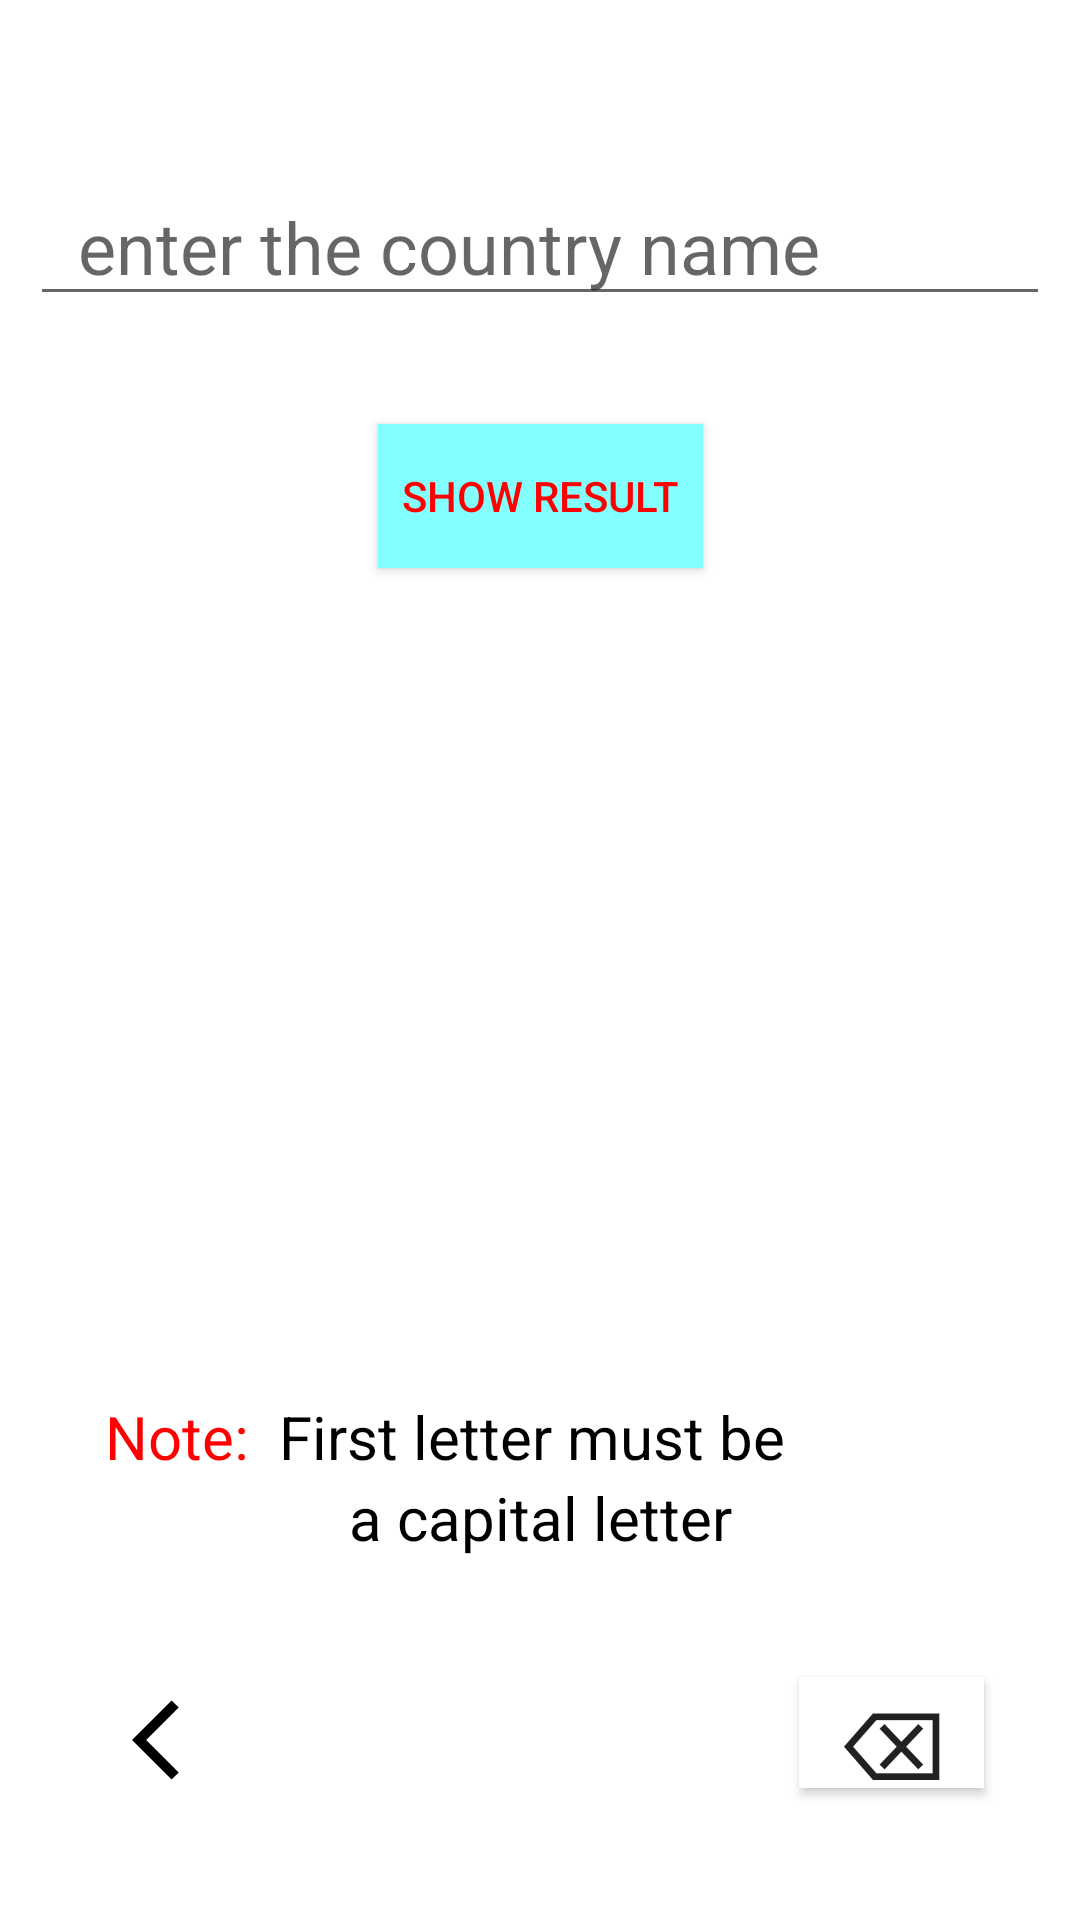

Screen size 1080 × 1920. Icon name, then its box in pixels as (x1, y1, x2, y2):
back: (132, 1700, 179, 1780)
